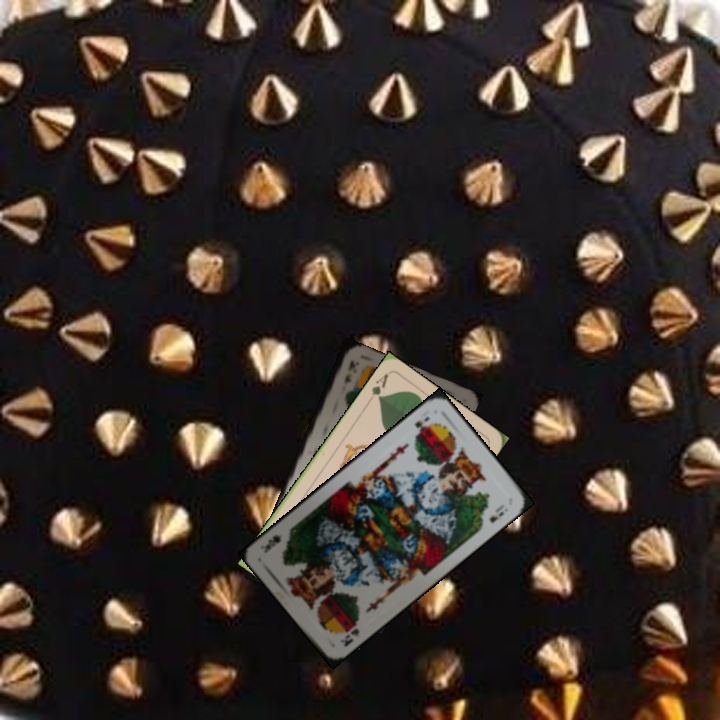EK: (340, 356, 360, 386)
GA: (363, 370, 391, 406)
SK: (336, 624, 362, 649), (411, 412, 432, 434)
